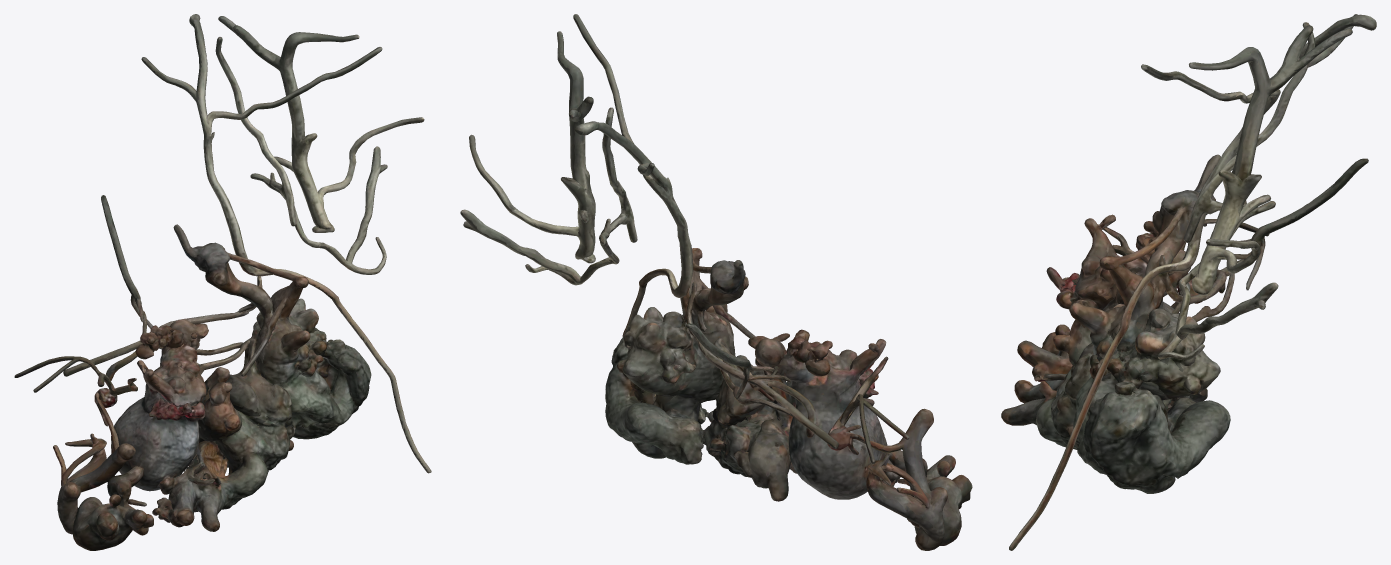
File: fallen-twig-v12.glb
3 views of the same model, side by side, from view 1: azimuth 30°, elevation 25°; view 2: azimuth 150°, elevation 25°; view 3: azimuth 270°, elevation 25° (orthographic). The views are drawn at different scales.
Visible parts, largest first — view 1: geometry_0; view 2: geometry_0; view 3: geometry_0.
Boxes of the visible parts, bbox=[...] form: geometry_0: bbox=[14, 14, 431, 550]; geometry_0: bbox=[460, 14, 972, 550]; geometry_0: bbox=[1001, 14, 1376, 550].
Size of the model in its own units: 0.95 by 0.9493 by 0.6216.
1 material, 1 textured.
